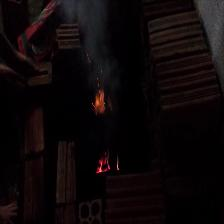fire: (99, 153, 126, 173), (88, 88, 108, 113)
smoke: (76, 9, 118, 85)
